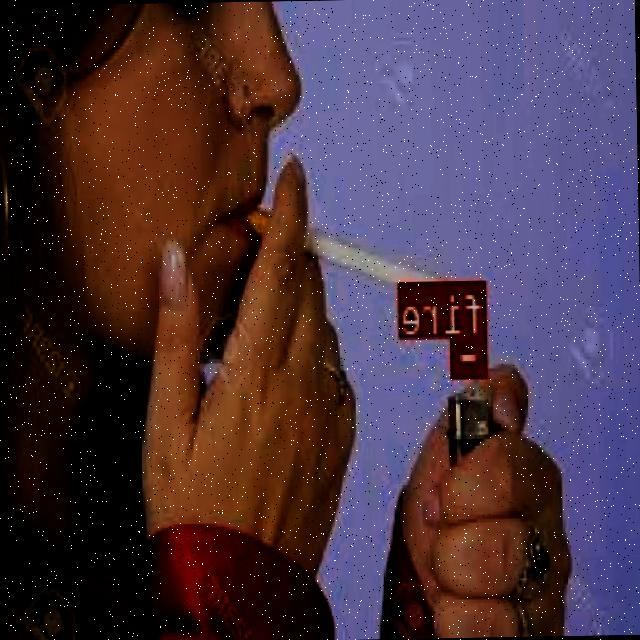fire: (453, 333, 490, 376)
